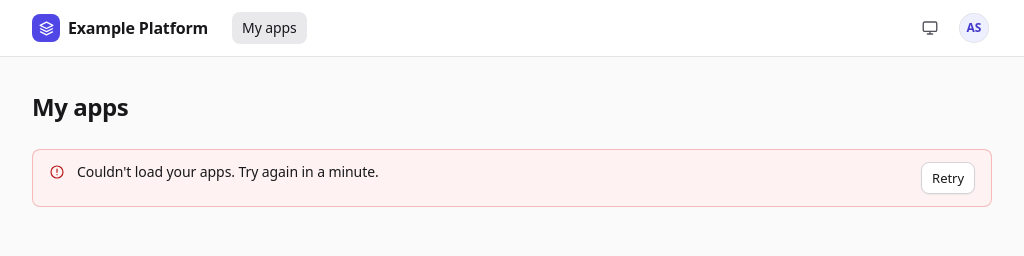
Scenario: app list › keeps the page header and offers Retry when apps fail to load
Expected: the heading "My apps" is shown, [32,91,128,123]
Expected: the message shows "Couldn't load your apps. Try again in a minute.", [77,162,379,181]
Click the button "Retry".
click(948, 178)  # box [921,162,975,194]
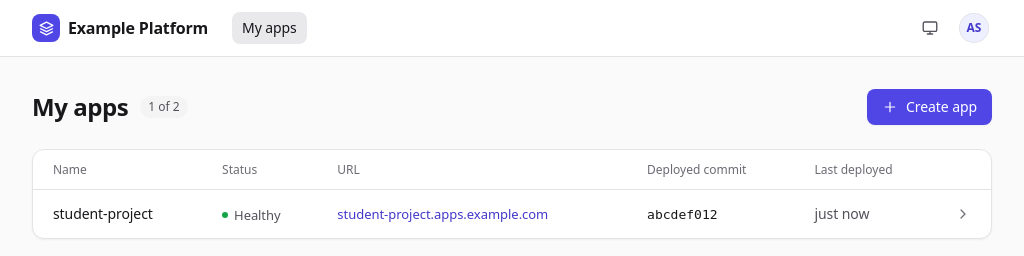
Expected: the table named "My apps" is shown, [33,150,991,238]
